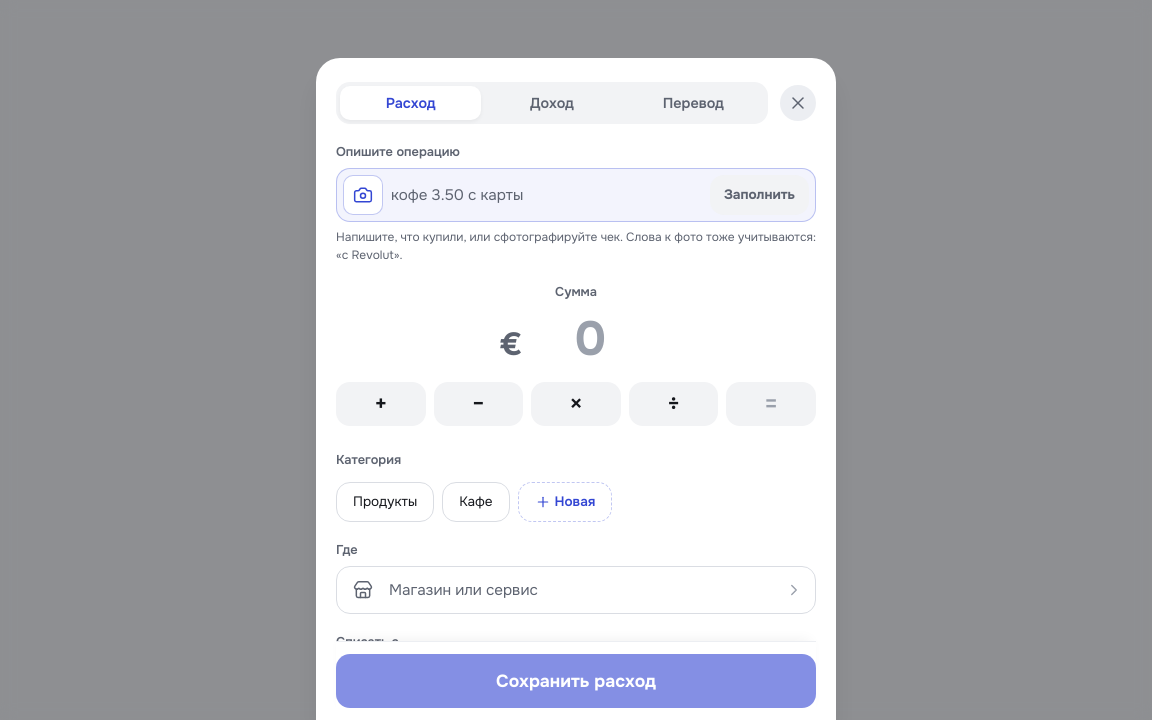
Test: QuickEntry in the transaction form › reports a network failure
Type "кофе 3" into the field labelled "Опишите операцию" at {"x": 546, "y": 195}, box [391, 185, 702, 205]
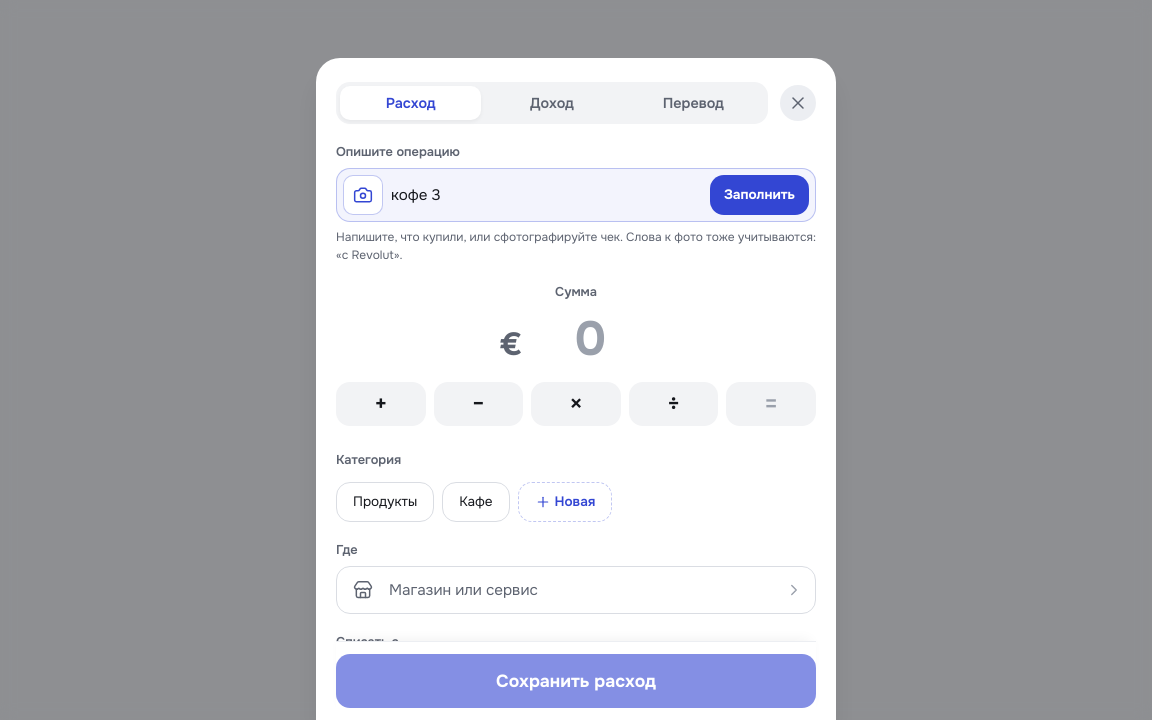
Click the button "Заполнить" at {"x": 759, "y": 195}, box [710, 175, 809, 215]
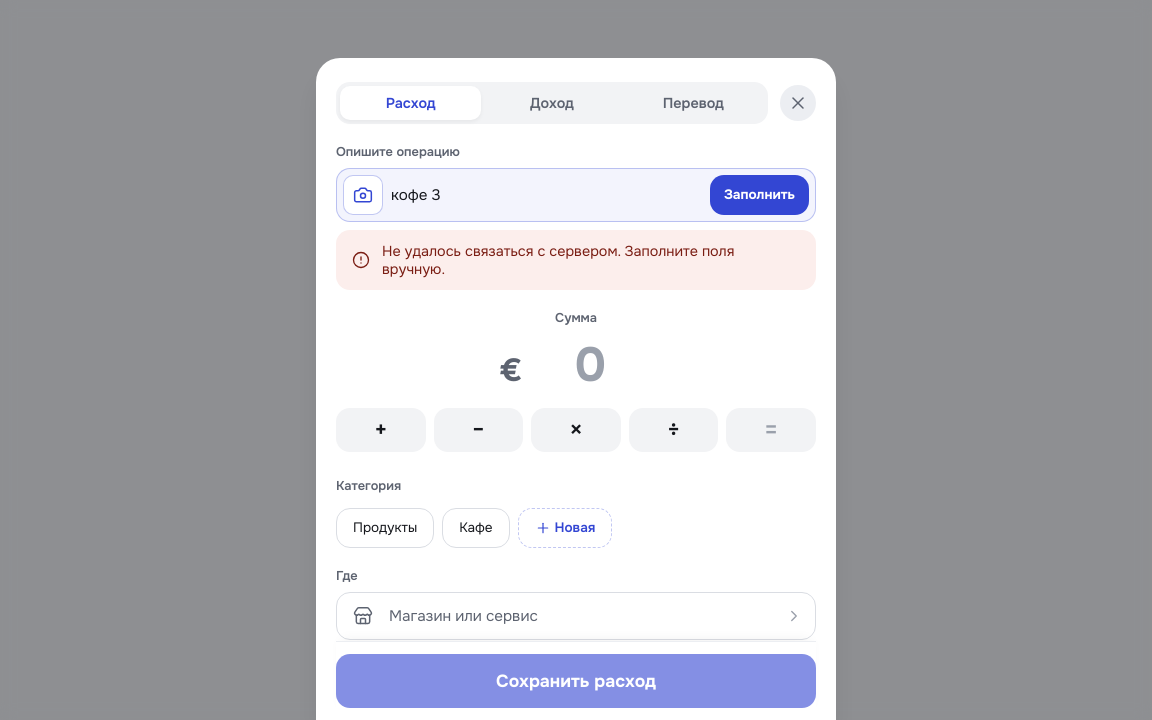
Expected: the button "Заполнить" is enabled, [710, 175, 809, 215]
Expected: the message reads "Не удалось связаться с сервером. Заполните поля вручную.", [382, 242, 734, 278]
